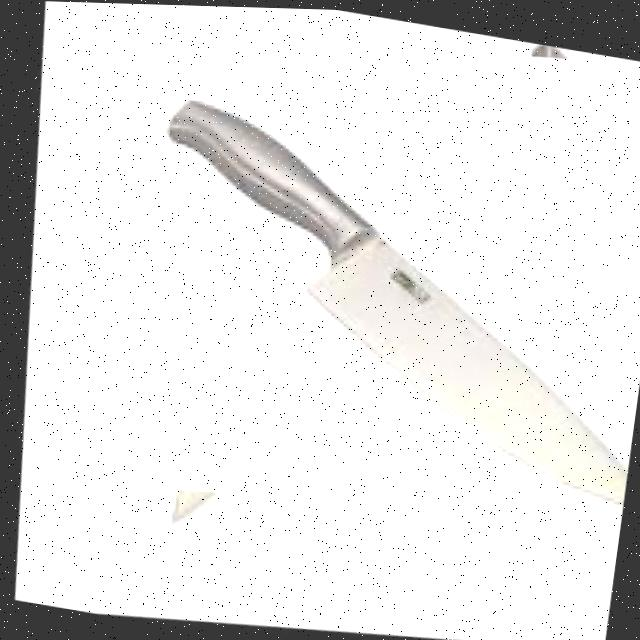knife: (123, 90, 640, 507)
